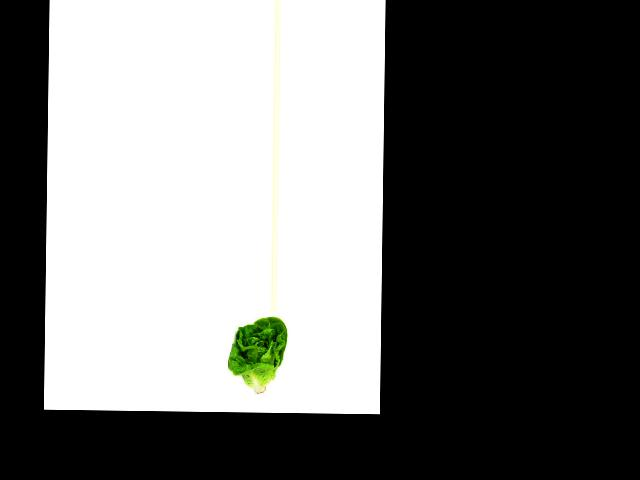lettuce: (223, 316, 289, 396)
